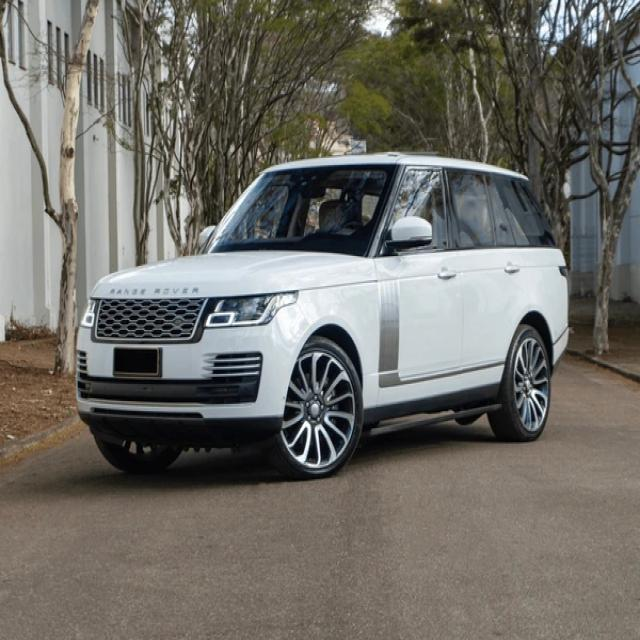rangerover: (108, 284, 205, 298)
